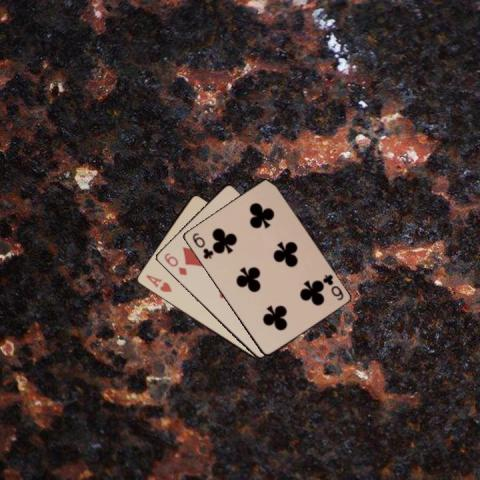6c: (188, 230, 214, 261), (319, 271, 345, 302)
6d: (161, 250, 188, 277)
Ah: (143, 272, 173, 293)
